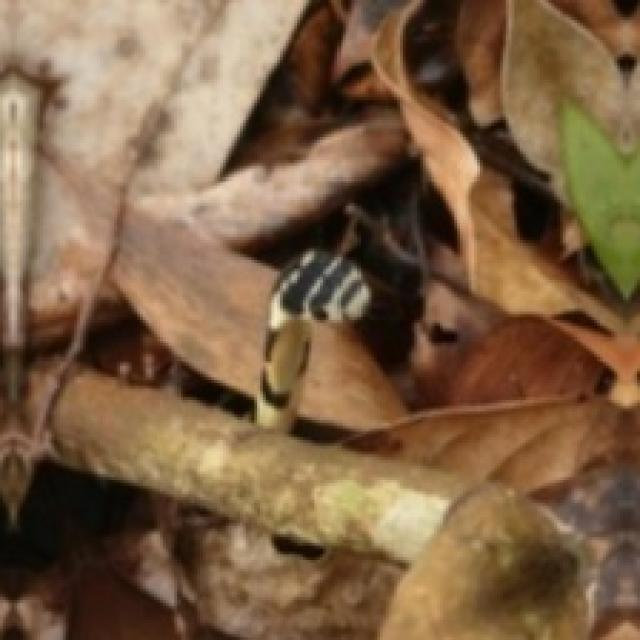king cobra: (257, 249, 369, 423)
